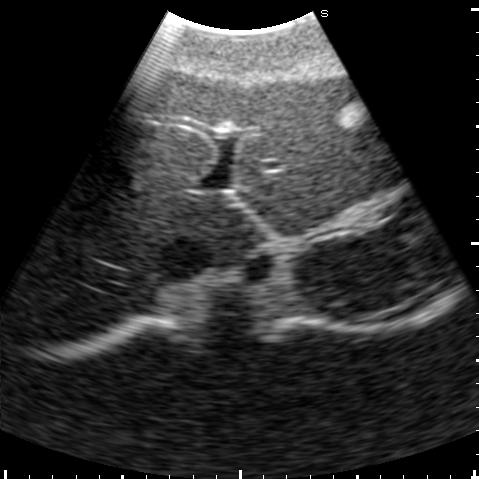IVC: (155, 234, 214, 278)
S1: (199, 197, 267, 263)
S2: (236, 163, 405, 236)
S3: (229, 73, 397, 200)
Tumor: (333, 103, 369, 128)
